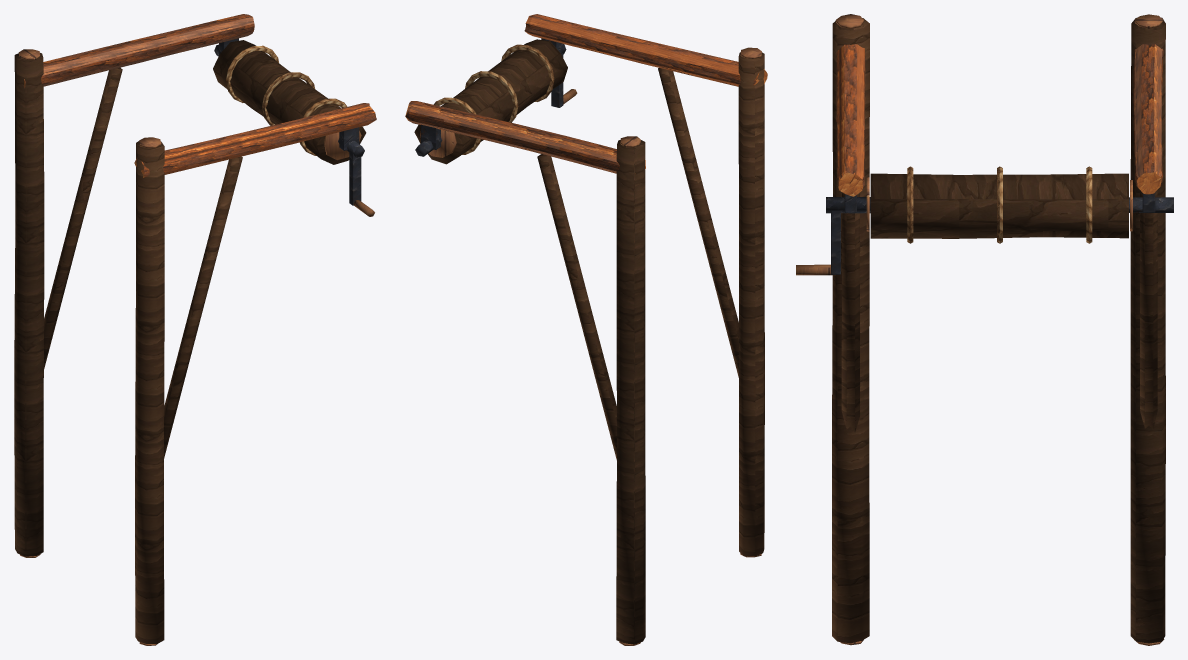
Rendered from lift_winch.glb.
3 renders of one model, left to right at view 1: azimuth 30°, elevation 25°; view 2: azimuth 150°, elevation 25°; view 3: azimuth 270°, elevation 25°, orthographic. The views are drawn at different scales.
Parts seen in each view (by area): view 1: frame, drum; view 2: frame, drum; view 3: frame, drum.
Boxes of the visible parts, x1,y1,x2,y2 form: frame: (14,14,376,645); drum: (213,40,374,216); frame: (405,14,767,645); drum: (414,39,577,164); frame: (832,14,1165,645); drum: (796,166,1173,275).
Size of the model in its own units: 1.38 by 2.75 by 1.52.
14 materials, 14 textured.
